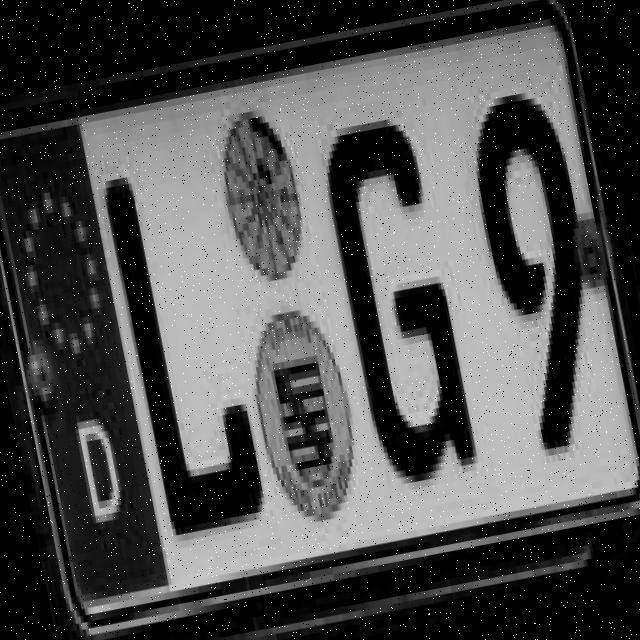Allemagne: (0, 125, 171, 609)
EU: (0, 0, 640, 617)
